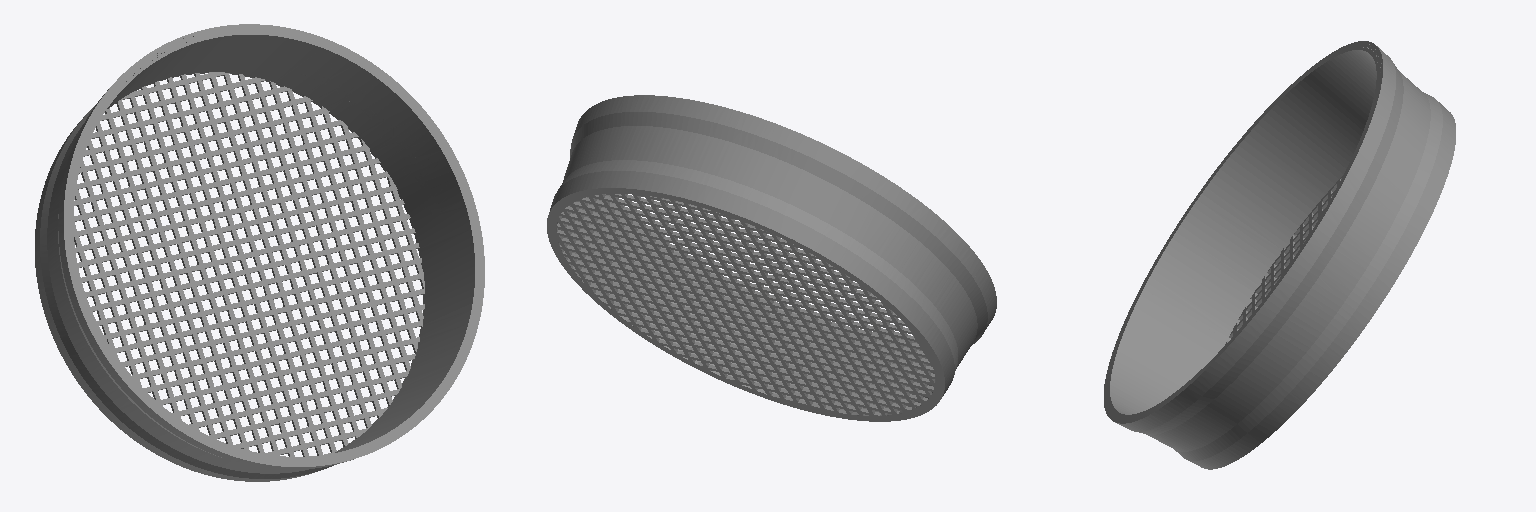
Rendered from sifter.obj.
The picture shows the model from 3 angles: view 1: azimuth 30°, elevation 25°; view 2: azimuth 150°, elevation 25°; view 3: azimuth 270°, elevation 25°; orthographic projection.
Parts seen in each view (by area): view 1: 3D_printable_sand_play_set_Sand_Sifter_By_CT3D_xyz_; view 2: 3D_printable_sand_play_set_Sand_Sifter_By_CT3D_xyz_; view 3: 3D_printable_sand_play_set_Sand_Sifter_By_CT3D_xyz_.
Part boxes in pixels (bbox=[...]): 3D_printable_sand_play_set_Sand_Sifter_By_CT3D_xyz_: bbox=[35, 24, 484, 481]; 3D_printable_sand_play_set_Sand_Sifter_By_CT3D_xyz_: bbox=[547, 95, 996, 421]; 3D_printable_sand_play_set_Sand_Sifter_By_CT3D_xyz_: bbox=[1104, 41, 1455, 469].
Bounding box in the file's own units: 46.34 × 42.02 × 35.63.